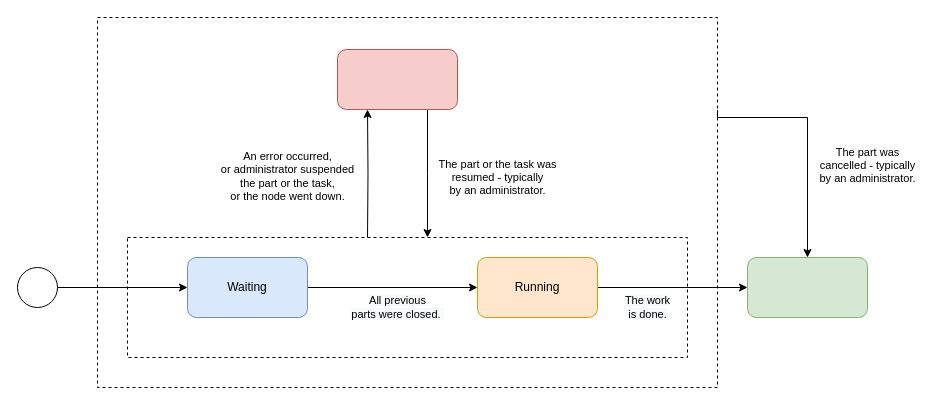
This 933x405 diagram has some shape labels left out. Here are the shapes that lost their labels. From the top down, the box of each, then its label:
(336, 48, 458, 110): Suspended
(746, 256, 868, 318): Closed
